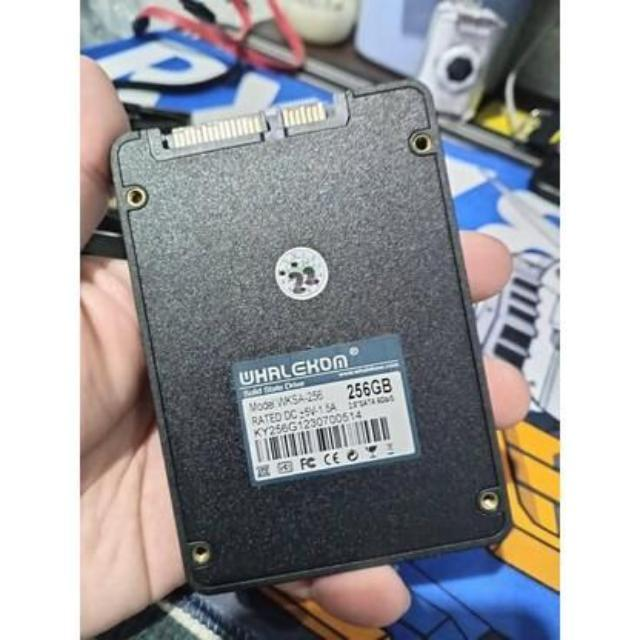DISK: (110, 70, 519, 592)
